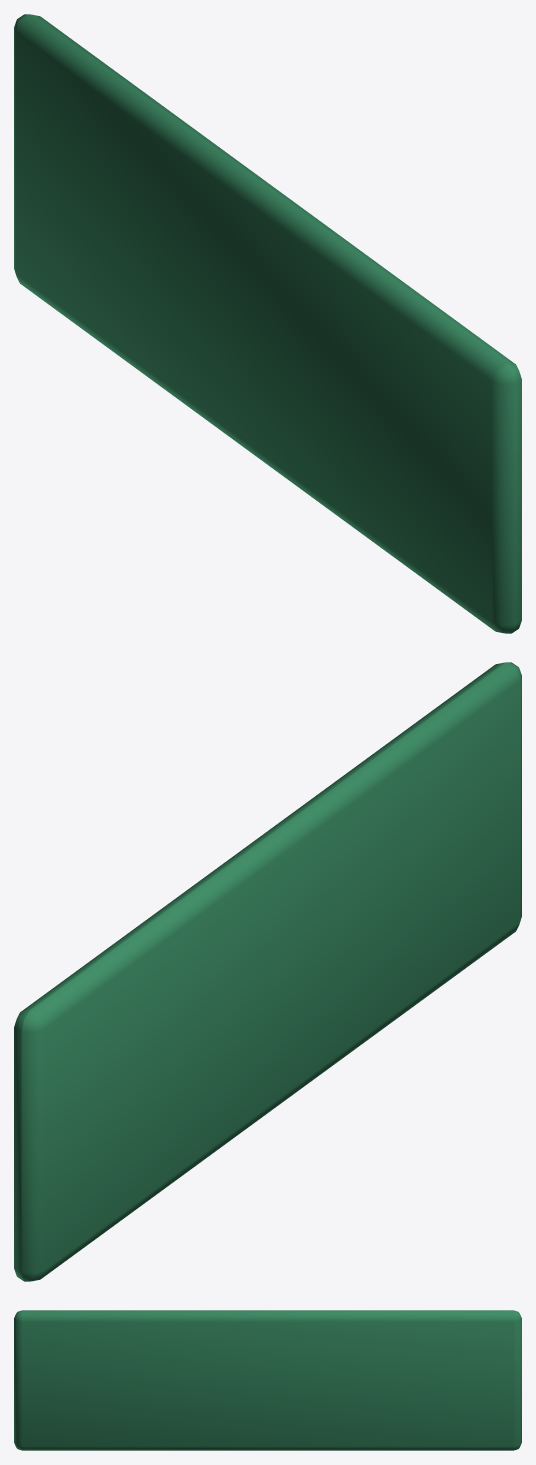
Rendered from GEO_CROSSOVER_QuarterPanel_Rear_R.glb.
3 renders of one model, top to bottom at view 1: azimuth 30°, elevation 25°; view 2: azimuth 150°, elevation 25°; view 3: azimuth 270°, elevation 25°, orthographic. The views are drawn at different scales.
Parts seen in each view (by area): view 1: GEO_CROSSOVER_QuarterPanel_Rear_R; view 2: GEO_CROSSOVER_QuarterPanel_Rear_R; view 3: GEO_CROSSOVER_QuarterPanel_Rear_R.
Part boxes in pixels (x1=…): GEO_CROSSOVER_QuarterPanel_Rear_R: x1=14, y1=14, x2=521, y2=633; GEO_CROSSOVER_QuarterPanel_Rear_R: x1=14, y1=662, x2=521, y2=1281; GEO_CROSSOVER_QuarterPanel_Rear_R: x1=14, y1=1310, x2=521, y2=1450.
Bounding box in the file's own units: 0.06 × 0.5376 × 1.77.
